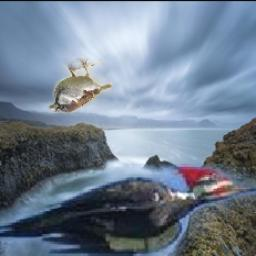Sparrow: (48, 58, 112, 113)
Woodpecker: (0, 164, 256, 256)
